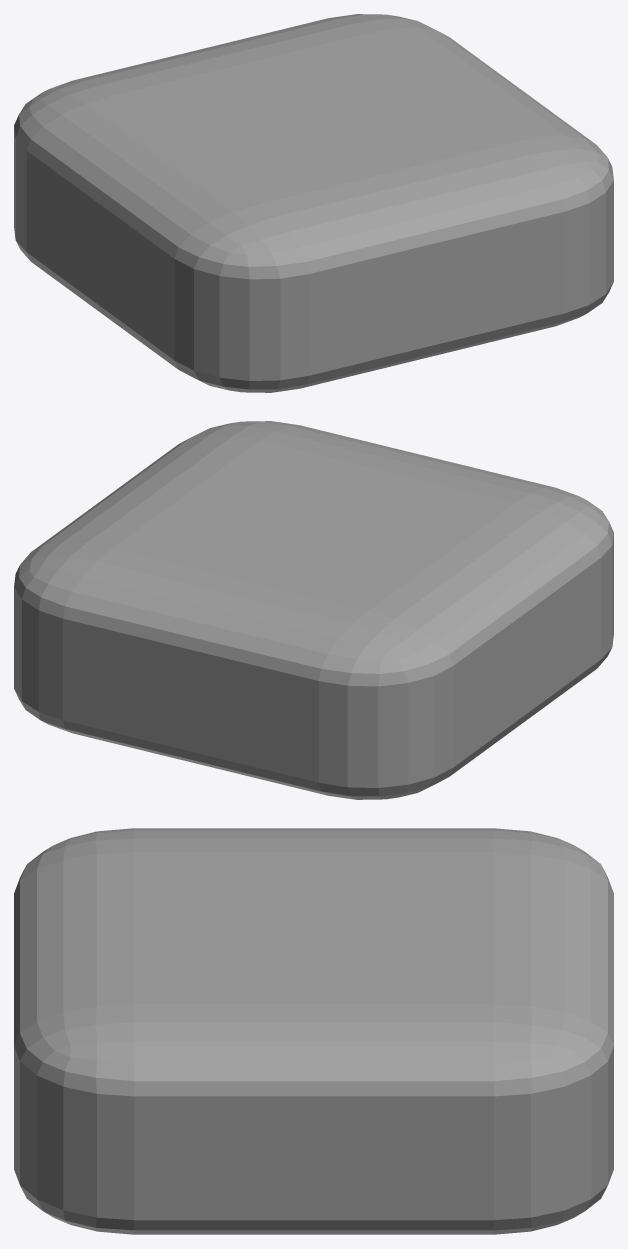
File: ButtonFrame.obj
The picture shows the model from 3 angles, top to bottom: view 1: azimuth 30°, elevation 25°; view 2: azimuth 150°, elevation 25°; view 3: azimuth 270°, elevation 25°; orthographic projection. The views are drawn at different scales.
Parts seen in each view (by area): view 1: button; view 2: button; view 3: button.
Boxes of the visible parts, x1,y1,x2,y2 form: button: (14, 14, 613, 392); button: (14, 421, 613, 799); button: (14, 828, 613, 1234).
Size of the model in its own units: 2.62 by 0.9943 by 2.62.
Materials: 1 (1 with a texture image).
